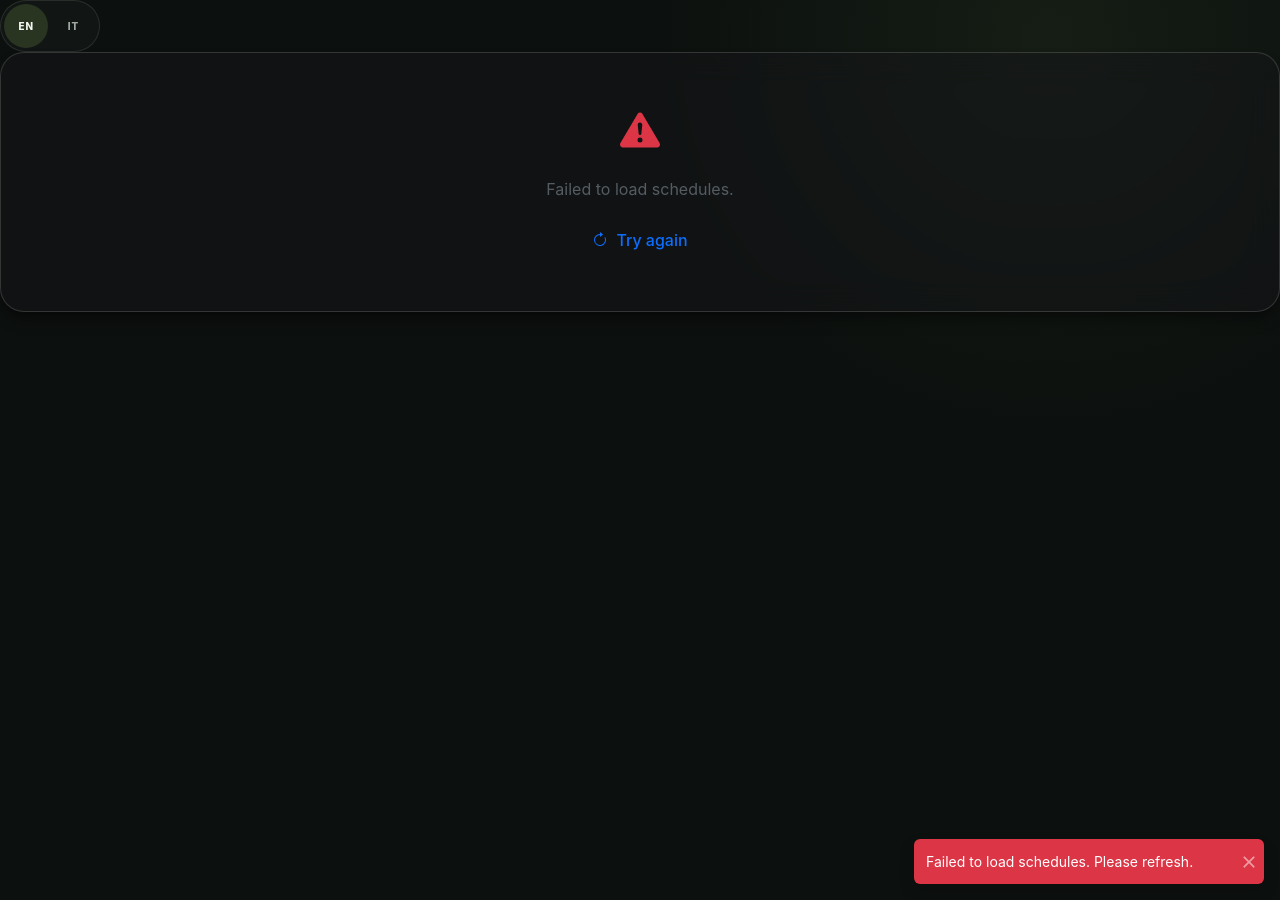
Schedules localization lifecycle › retranslates inline and toast errors without repeating the request
Check: the text "Failed to load schedules." is shown, box [546,177,734,201]
Check: the text "Failed to load schedules. Please refresh." is shown, box [926,853,1193,870]
What coordinates should you click on to do the following:
click the button with aria-label "IT Italian"
I would click on:
 (73, 26)
Its box is [51,4,95,48].
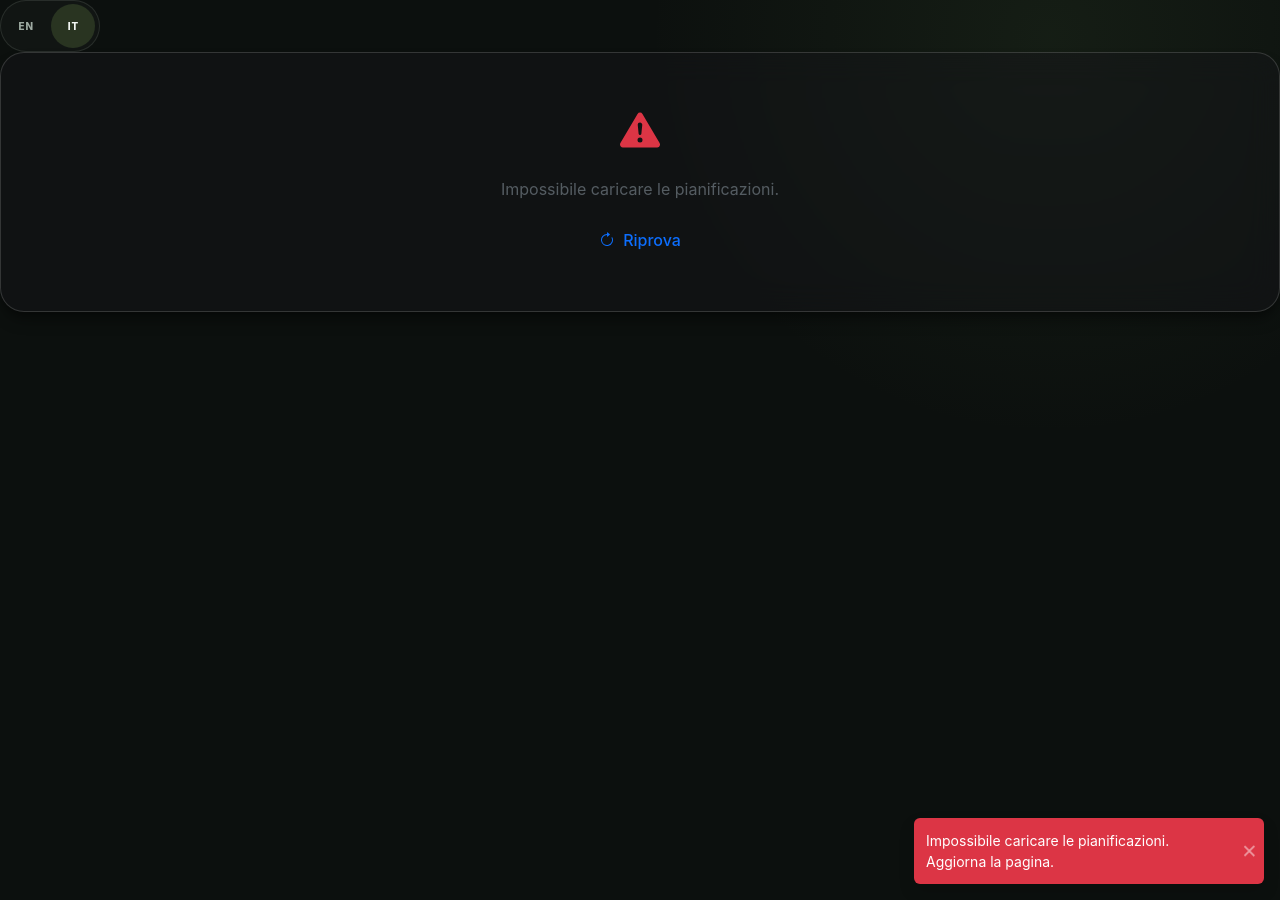
Check: the text "Impossibile caricare le pianificazioni." is shown, box [501,177,779,201]
Check: the text "Impossibile caricare le pianificazioni. Aggiorna la pagina." is shown, box [926,832,1169,870]
